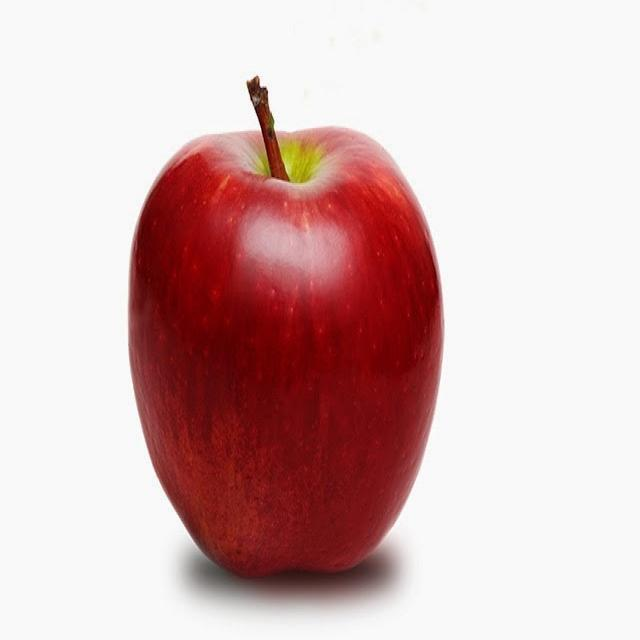Apple: (121, 72, 443, 581)
